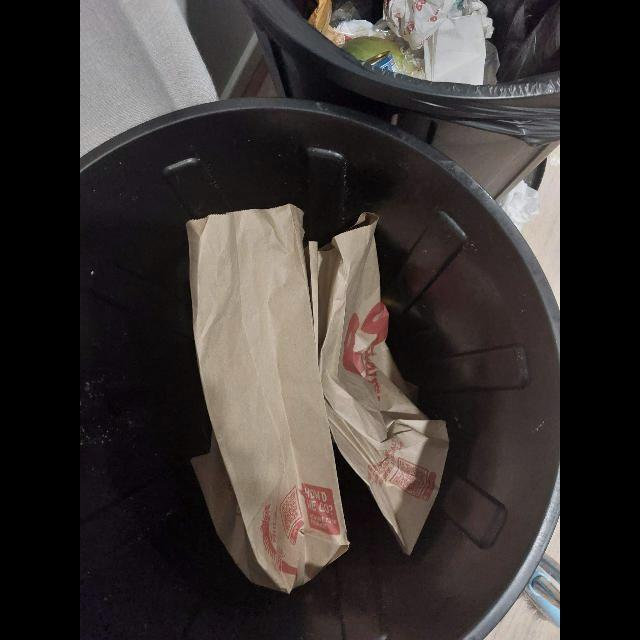aluminum: (368, 51, 398, 73)
left_over_food: (342, 37, 405, 74)
paper: (185, 206, 350, 596), (308, 213, 450, 558), (423, 9, 494, 87), (387, 0, 495, 51)
